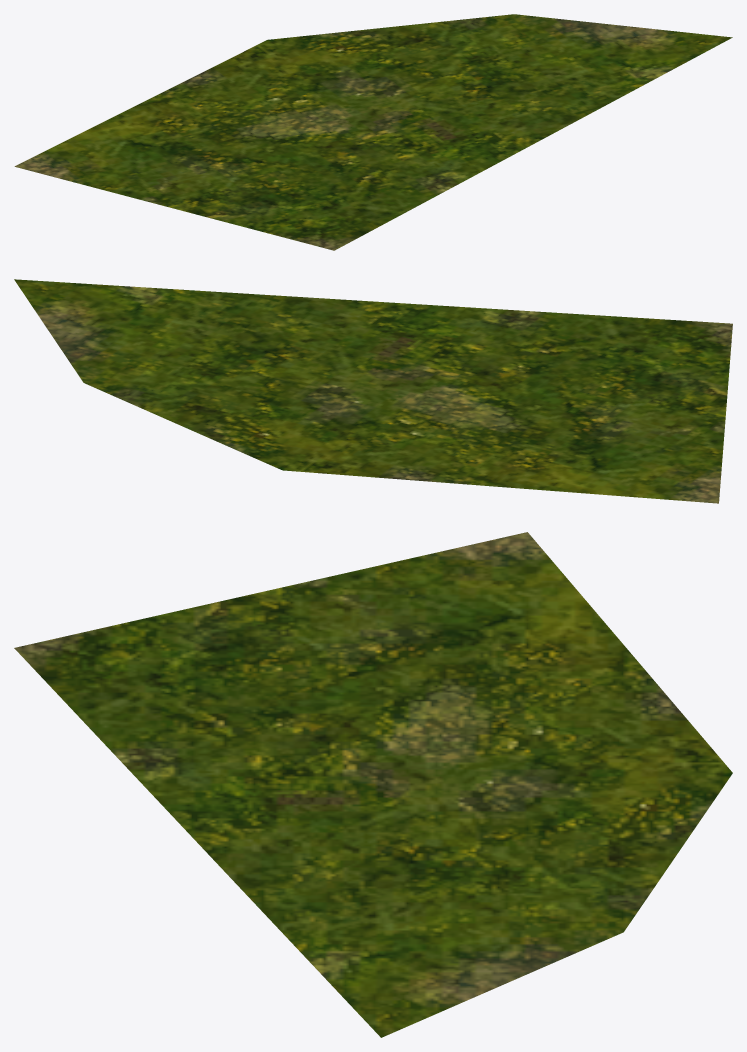
The model's file is OVERHILL_A_01_LINE38.fbx.
The picture shows the model from 3 angles, top to bottom: view 1: azimuth 30°, elevation 25°; view 2: azimuth 150°, elevation 25°; view 3: azimuth 270°, elevation 25°; orthographic projection. The views are drawn at different scales.
Parts seen in each view (by area): view 1: OVERHILL_A_01_LINE38; view 2: OVERHILL_A_01_LINE38; view 3: OVERHILL_A_01_LINE38.
Part boxes in pixels (bbox=[...]): OVERHILL_A_01_LINE38: bbox=[14, 14, 732, 250]; OVERHILL_A_01_LINE38: bbox=[14, 279, 732, 503]; OVERHILL_A_01_LINE38: bbox=[14, 532, 732, 1037].
Bounding box in the file's own units: 22615 × 0.00221 × 13582.
1 material, 1 textured.
